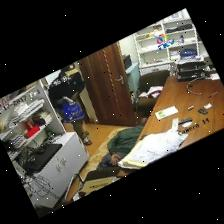person: (98, 117, 148, 170), (49, 64, 85, 120)
